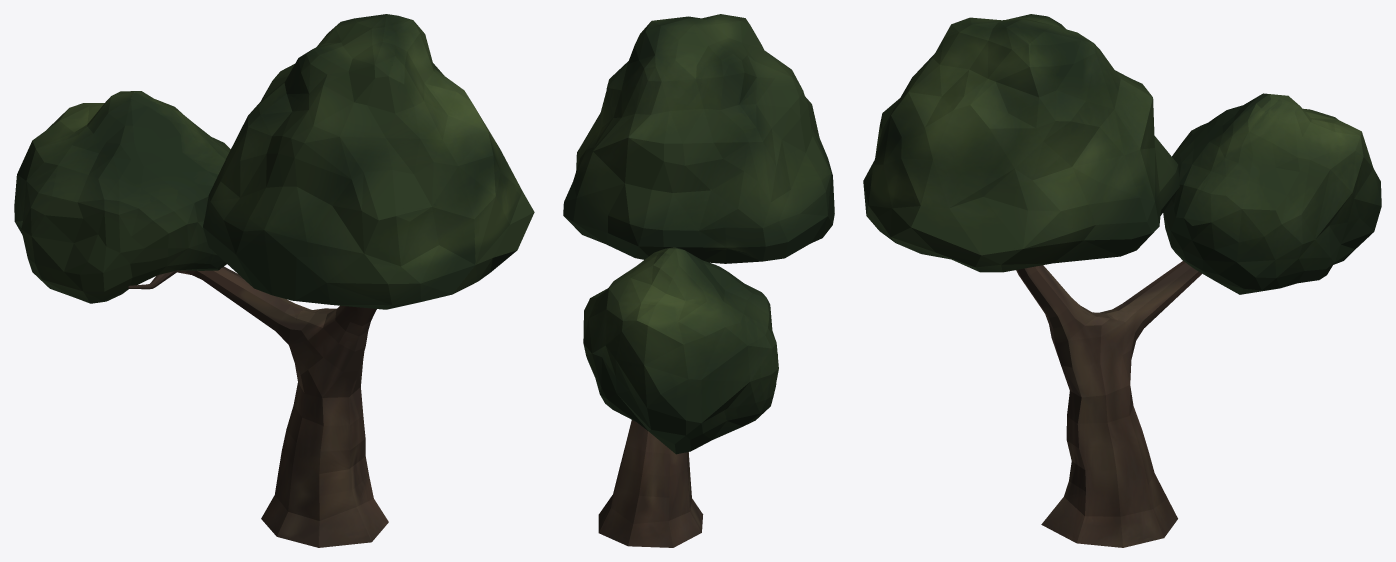
The model's file is treeLowPoly2.fbx.
3 renders of one model, left to right at view 1: azimuth 30°, elevation 25°; view 2: azimuth 150°, elevation 25°; view 3: azimuth 270°, elevation 25°, orthographic. The views are drawn at different scales.
Visible parts, largest first — view 1: Tree3; view 2: Tree3; view 3: Tree3.
Part boxes in pixels (x1,y1,x2,y2): Tree3: (14,14,534,547); Tree3: (563,14,834,547); Tree3: (863,14,1381,547).
Bounding box in the file's own units: 346 × 501 × 463.
